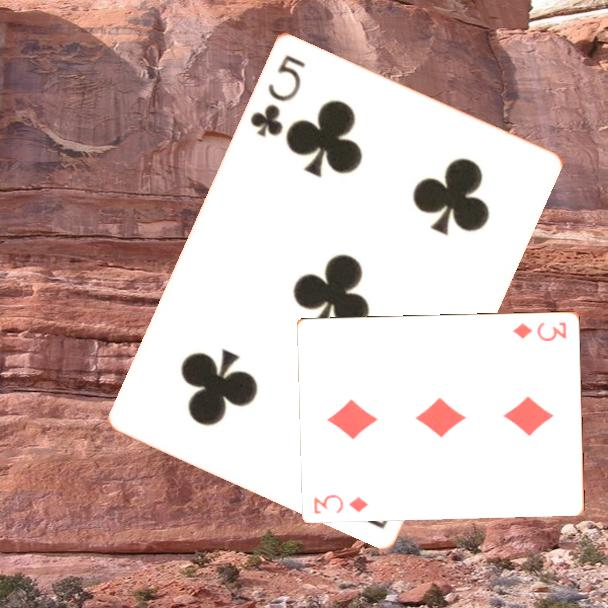c05: (246, 50, 308, 140)
d03: (311, 491, 372, 516), (510, 318, 570, 343)
